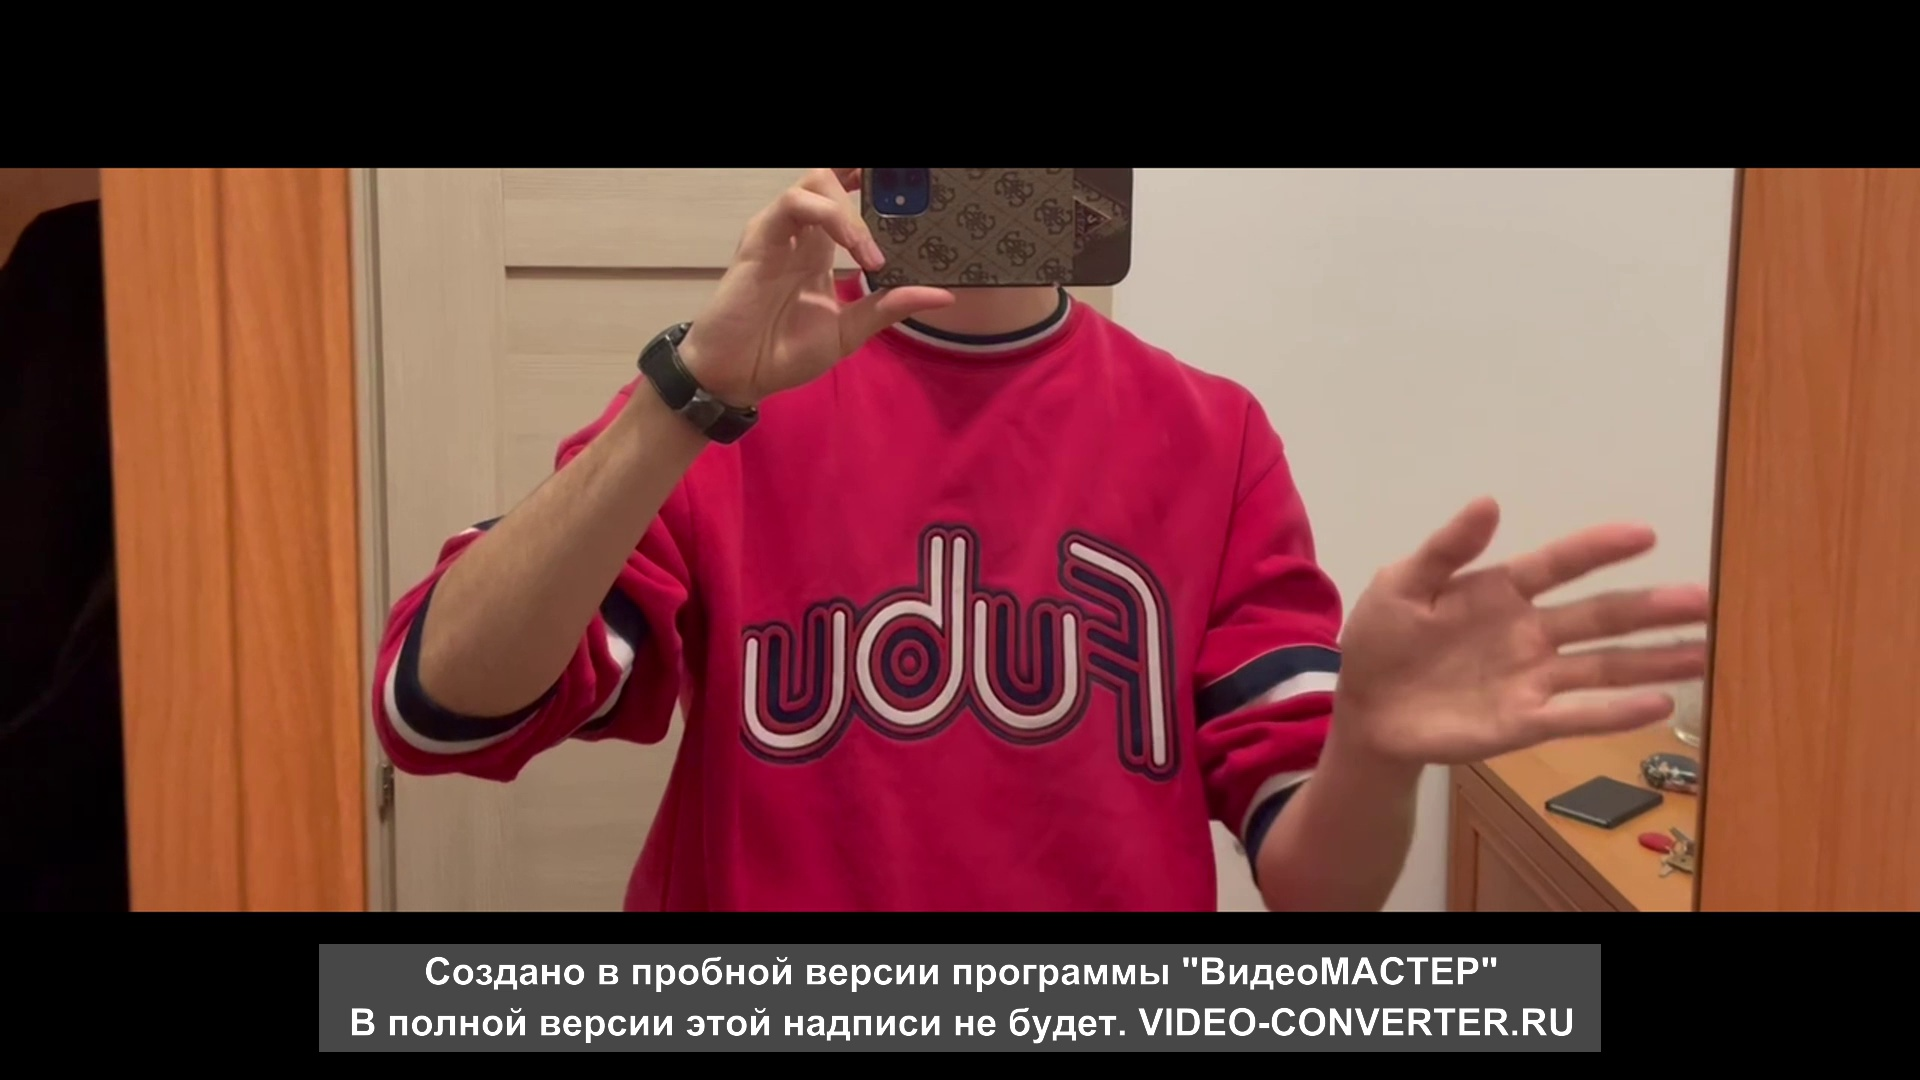Ладонь: (1340, 495, 1716, 761)
